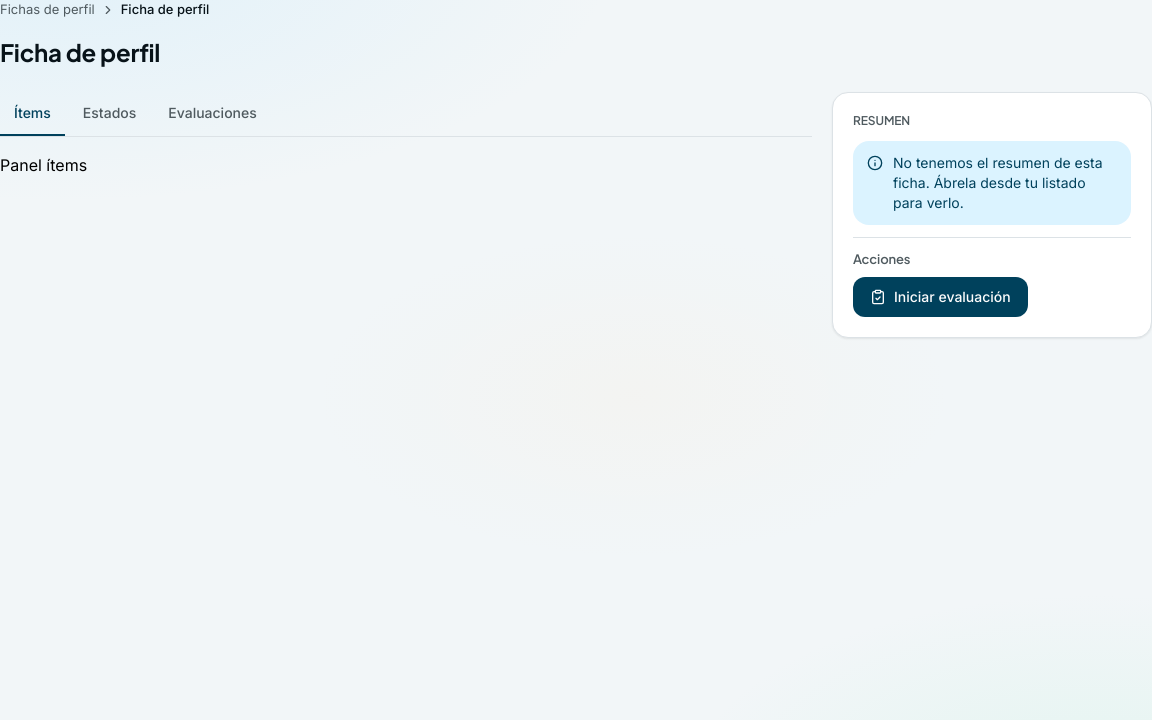
Test case: RepresentanteDetalleView › ofrece «Iniciar evaluación» solo si la consulta terminó sin evaluaciones y abre la confirmación
Click the button "Iniciar evaluación".
click(940, 297)  # box [853,277,1028,317]
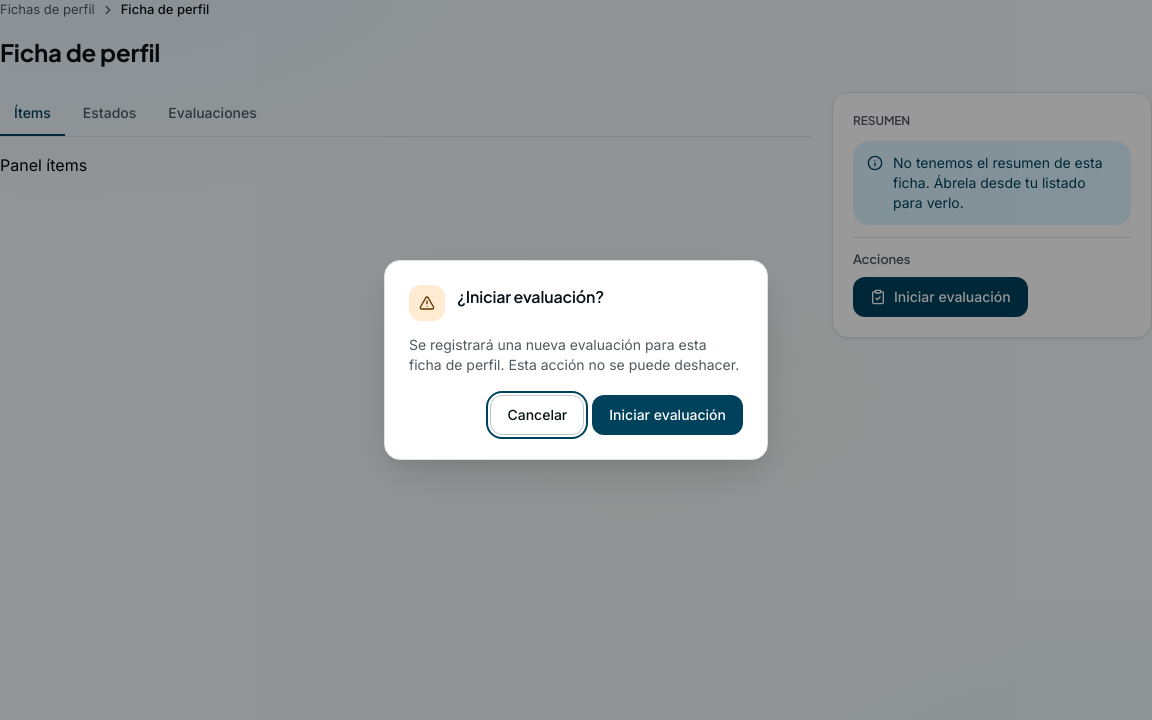
Now the dialog shows "¿Iniciar evaluación?", box [457,286,604,307]
